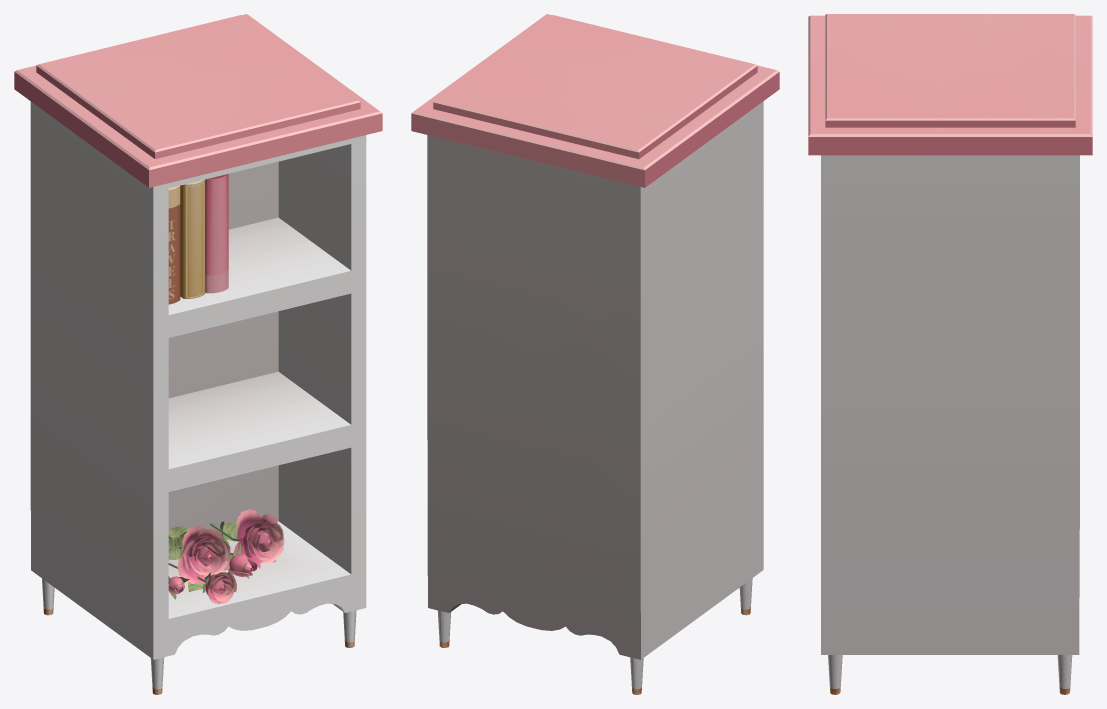
The model's file is Doll_OB_Shelf_001.FBX.
3 views of the same model, side by side, from view 1: azimuth 30°, elevation 25°; view 2: azimuth 150°, elevation 25°; view 3: azimuth 270°, elevation 25° (orthographic). The views are drawn at different scales.
Parts seen in each view (by area): view 1: Doll_OB_Shelf_001; view 2: Doll_OB_Shelf_001; view 3: Doll_OB_Shelf_001.
Part boxes in pixels (box(x1,y1,x2,y2)): Doll_OB_Shelf_001: box(14, 14, 382, 694); Doll_OB_Shelf_001: box(411, 14, 779, 694); Doll_OB_Shelf_001: box(808, 14, 1092, 694).
Size of the model in its own units: 39.64 by 88.74 by 39.64.
